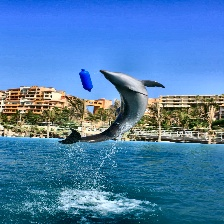dolphin: (57, 70, 165, 144)
